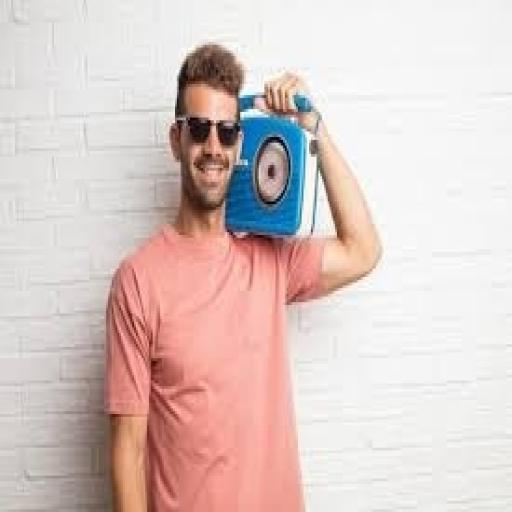listening_to_music: (102, 39, 386, 509)
